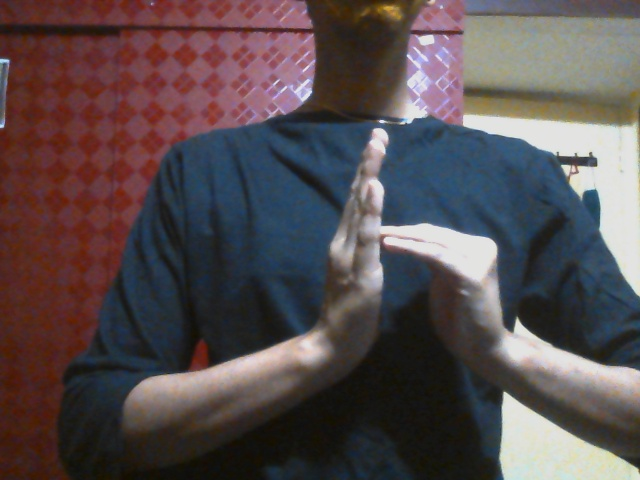Z: (311, 127, 512, 388)
